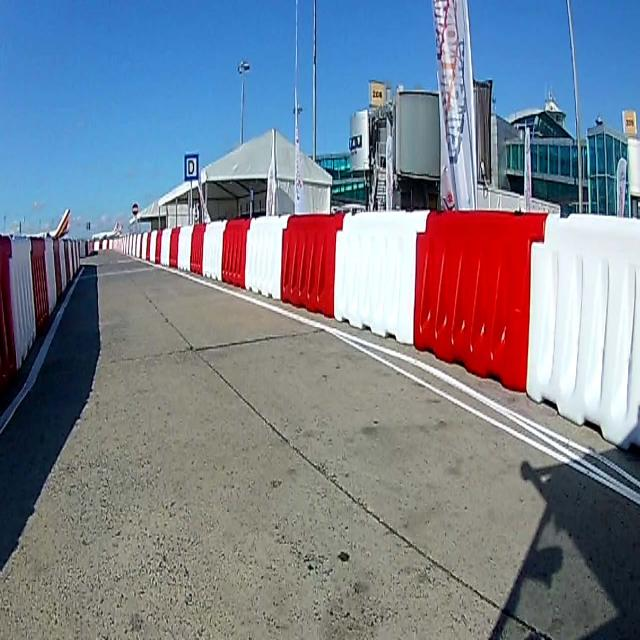durak: (183, 154, 199, 181)
girisyok: (132, 202, 138, 213)
